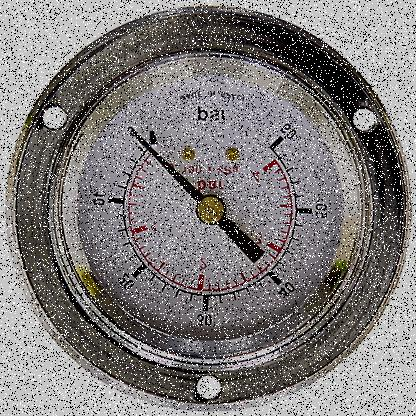needle: (135, 134, 205, 204)
